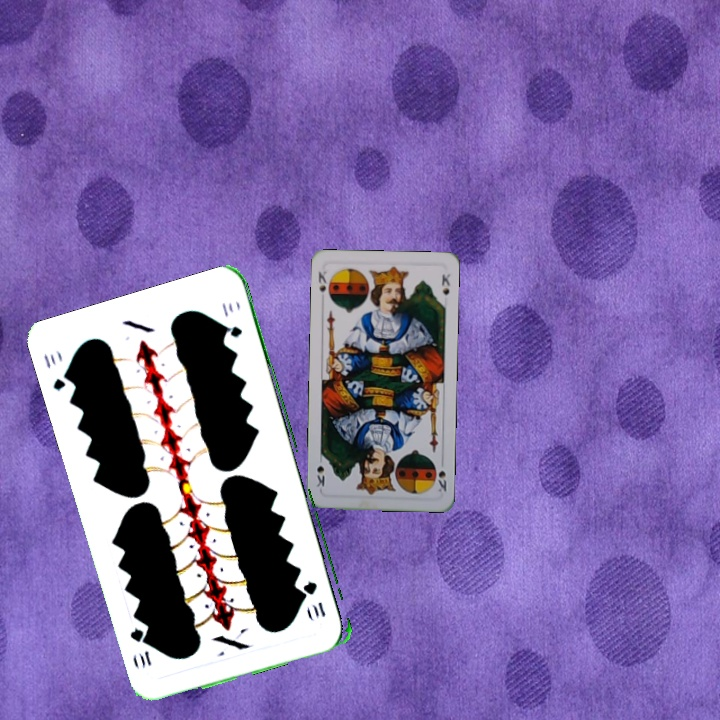G10: (40, 350, 75, 393), (301, 577, 328, 619)
SK: (434, 455, 449, 494), (314, 267, 329, 296)
